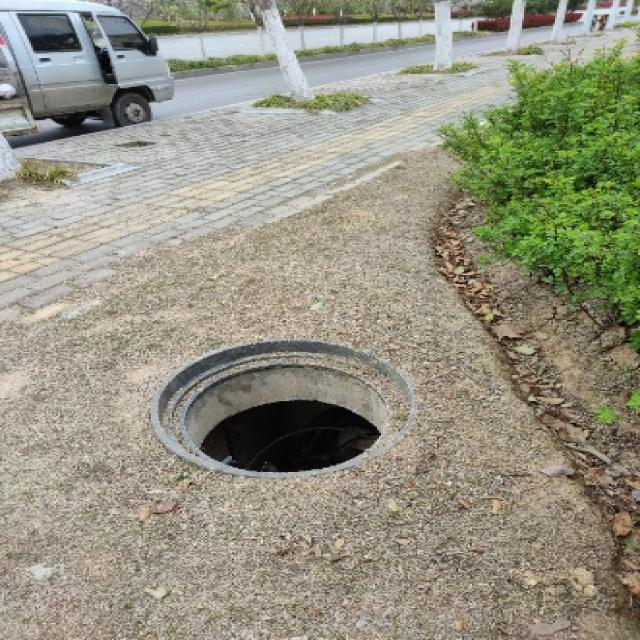Uncovered: (123, 335, 445, 486)
